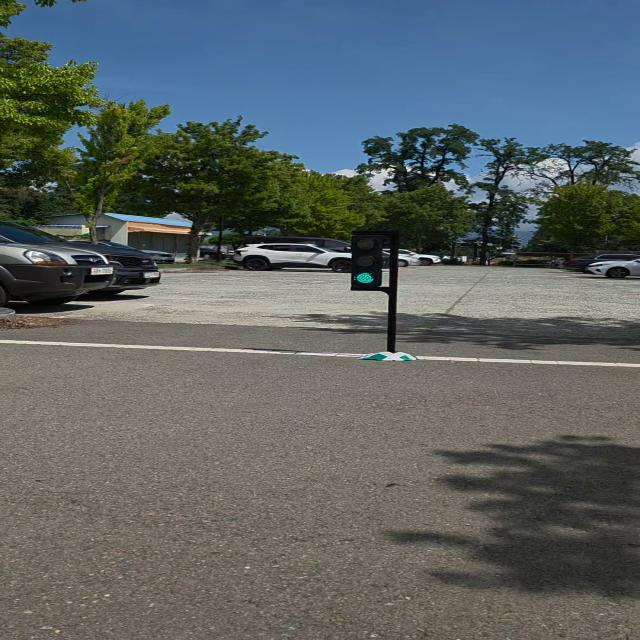green: (351, 229, 390, 289)
